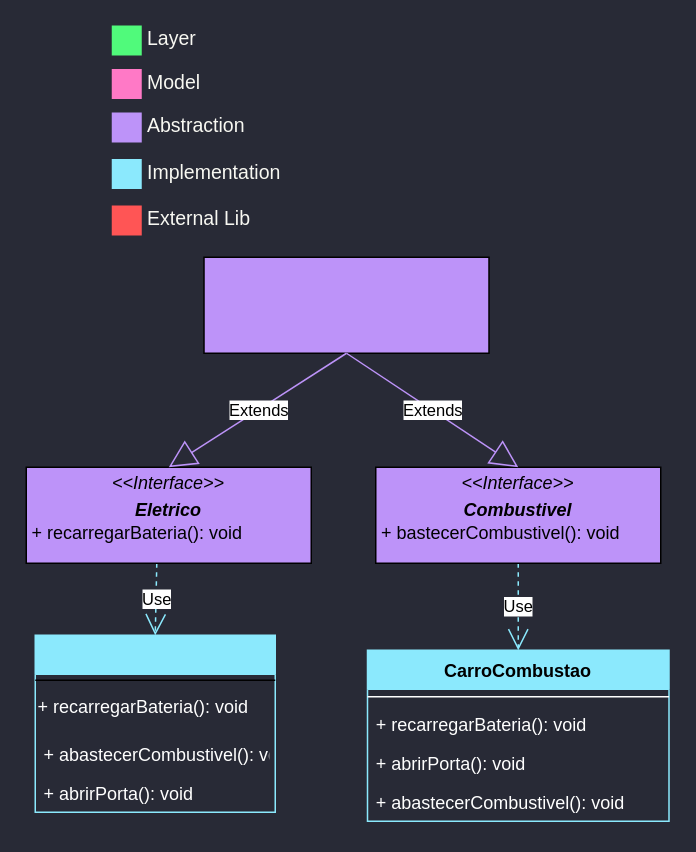
Image size: 696x852. Some labels were removed from this diagram. The shapes that lost their labels are listed below. From the top down, each one's box as (x1, y1, x2, y2) in pixels, then its label:
(202, 256, 489, 353): <<Interface>> Carro + abrirPorta(): void
(34, 634, 275, 812): CarroEletrico
